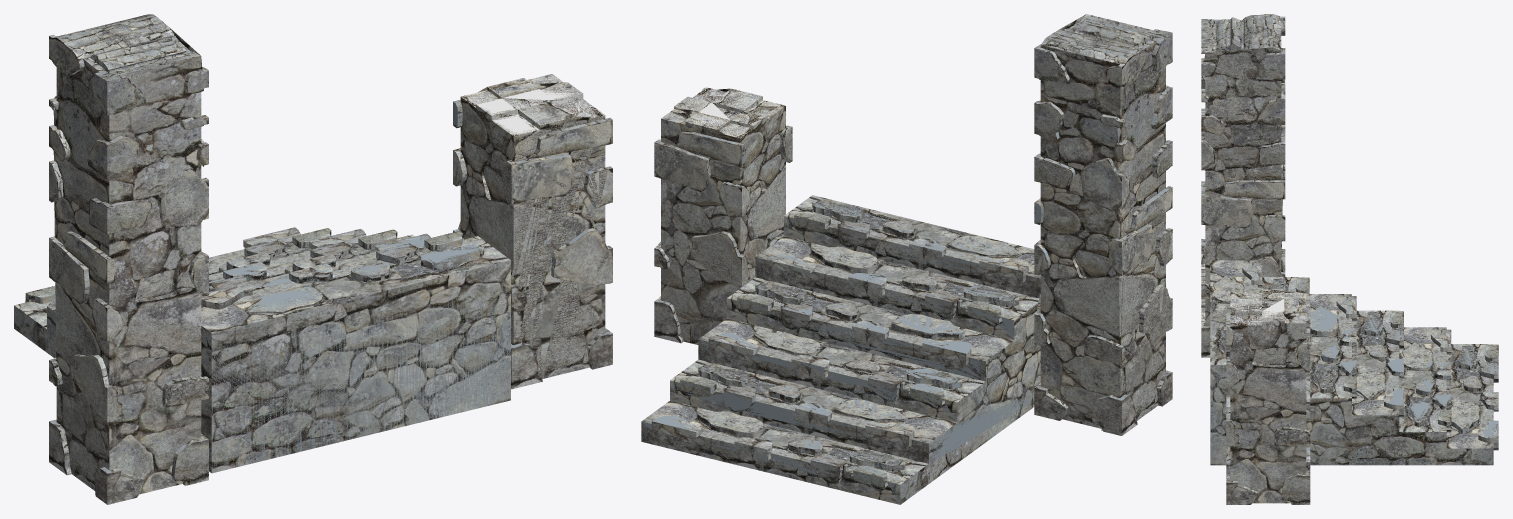
Rendered from Stone wall.obj.
3 renders of one model, left to right at view 1: azimuth 30°, elevation 25°; view 2: azimuth 150°, elevation 25°; view 3: azimuth 270°, elevation 25°, orthographic. The views are drawn at different scales.
Visible parts, largest first — view 1: Mesh1 Group2 Group1 Model, Mesh17 Group4 Model, Mesh10 Group3 Model; view 2: Mesh17 Group4 Model, Mesh1 Group2 Group1 Model, Mesh10 Group3 Model; view 3: Mesh17 Group4 Model, Mesh1 Group2 Group1 Model, Mesh10 Group3 Model.
Part boxes in pixels (x1=…): Mesh1 Group2 Group1 Model: x1=49, y1=14, x2=208, y2=504; Mesh17 Group4 Model: x1=14, y1=227, x2=510, y2=473; Mesh10 Group3 Model: x1=453, y1=74, x2=612, y2=389; Mesh17 Group4 Model: x1=641, y1=195, x2=1040, y2=504; Mesh1 Group2 Group1 Model: x1=1034, y1=14, x2=1172, y2=435; Mesh10 Group3 Model: x1=654, y1=87, x2=792, y2=344; Mesh17 Group4 Model: x1=1210, y1=260, x2=1498, y2=465; Mesh1 Group2 Group1 Model: x1=1201, y1=14, x2=1285, y2=357; Mesh10 Group3 Model: x1=1226, y1=289, x2=1310, y2=504.
Bounding box in the file's own units: 14.75 × 11.61 × 10.13.
Materials: 3 (1 with a texture image).
